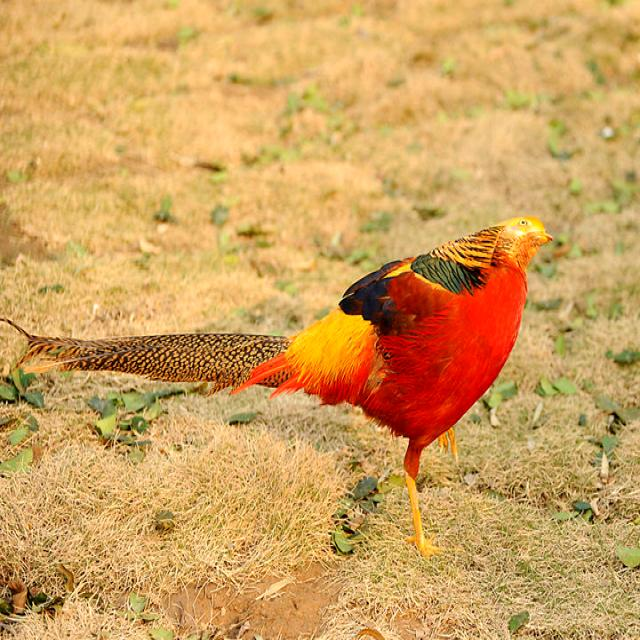Chrysolophus pictus feather: (0, 319, 290, 390)
